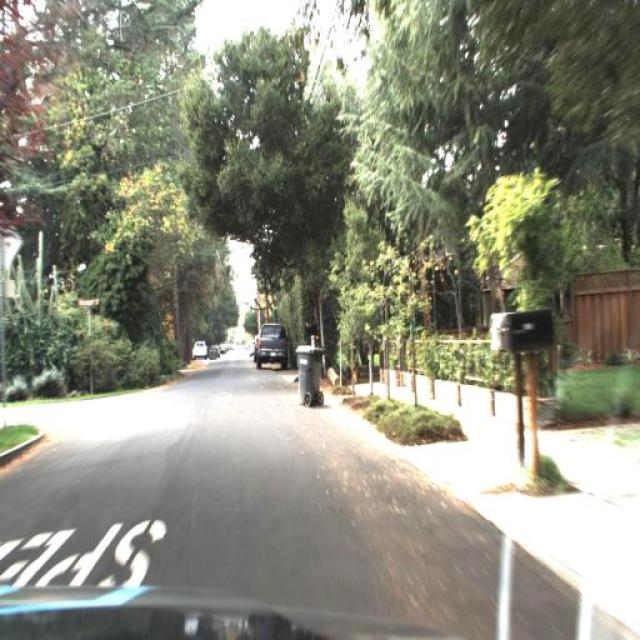car: (252, 320, 292, 376), (190, 331, 211, 367)
